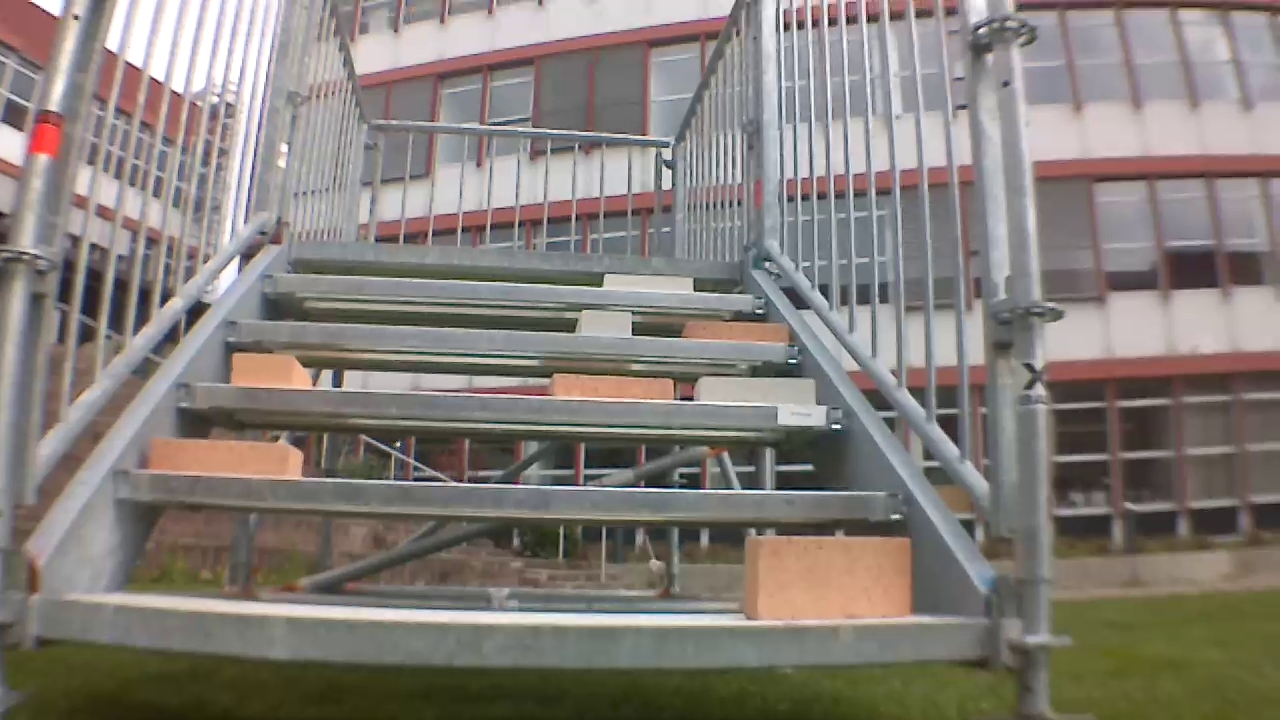brick: (736, 535, 916, 619), (146, 443, 299, 474), (696, 374, 823, 405), (544, 377, 673, 399), (229, 354, 316, 383), (677, 321, 791, 342), (571, 306, 637, 334), (600, 277, 696, 290)
edge: (40, 610, 1003, 658), (178, 377, 849, 435), (106, 476, 910, 515), (256, 269, 768, 313), (216, 325, 802, 362), (293, 242, 748, 274)
stairs: (0, 0, 1048, 709)
steps: (15, 237, 1033, 682)
